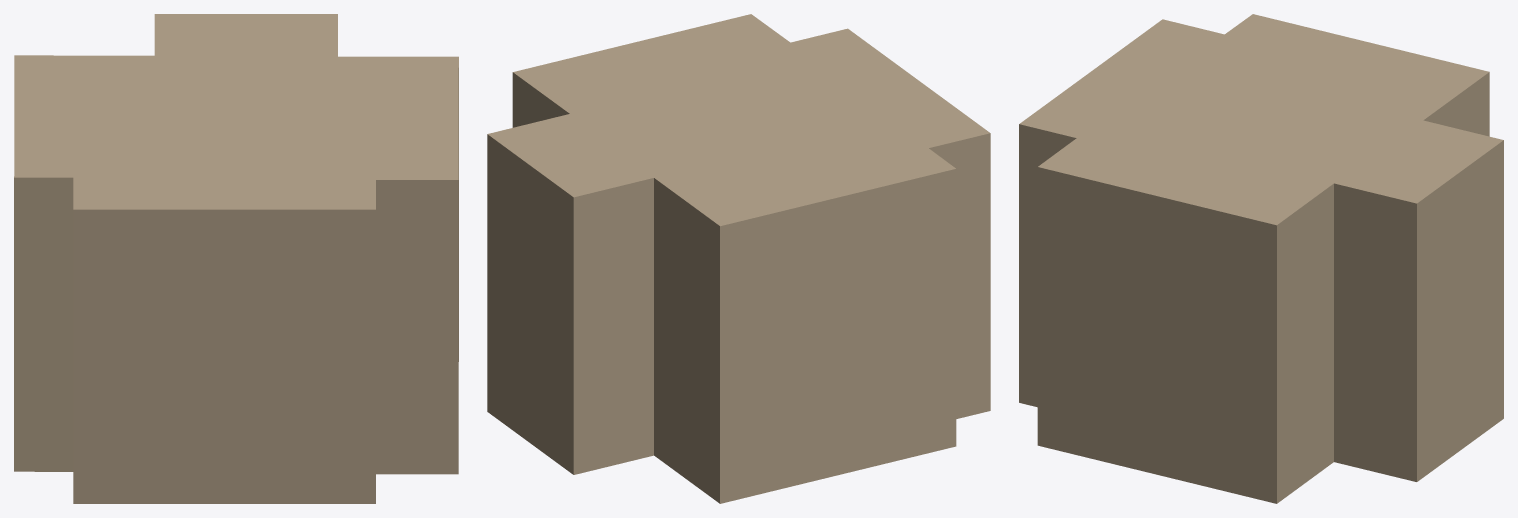
The model's file is bld_101246045.dae.
3 views of the same model, side by side, from view 1: azimuth 30°, elevation 25°; view 2: azimuth 150°, elevation 25°; view 3: azimuth 270°, elevation 25° (orthographic). The views are drawn at different scales.
Parts seen in each view (by area): view 1: bld_101246045; view 2: bld_101246045; view 3: bld_101246045.
Part boxes in pixels (box(x1,y1,x2,y2)): bld_101246045: box(14, 14, 458, 503); bld_101246045: box(487, 14, 990, 503); bld_101246045: box(1019, 14, 1503, 503).
Bounding box in the file's own units: 11.39 × 11.04 × 7.
